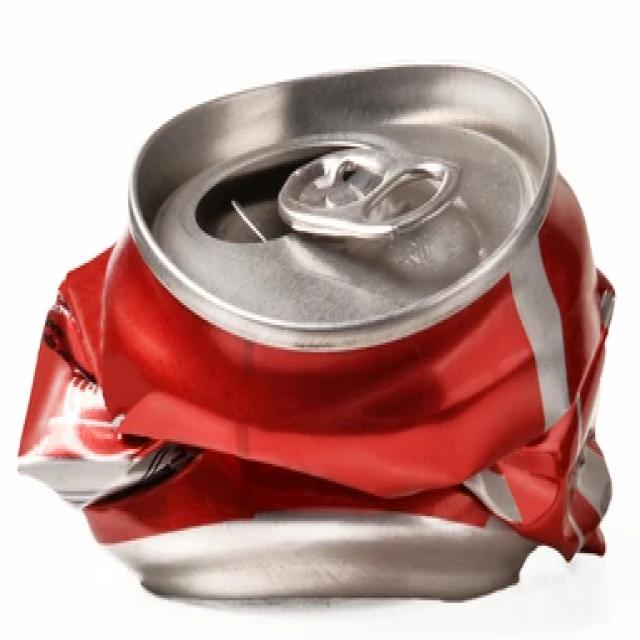Dry: (16, 63, 616, 607)
